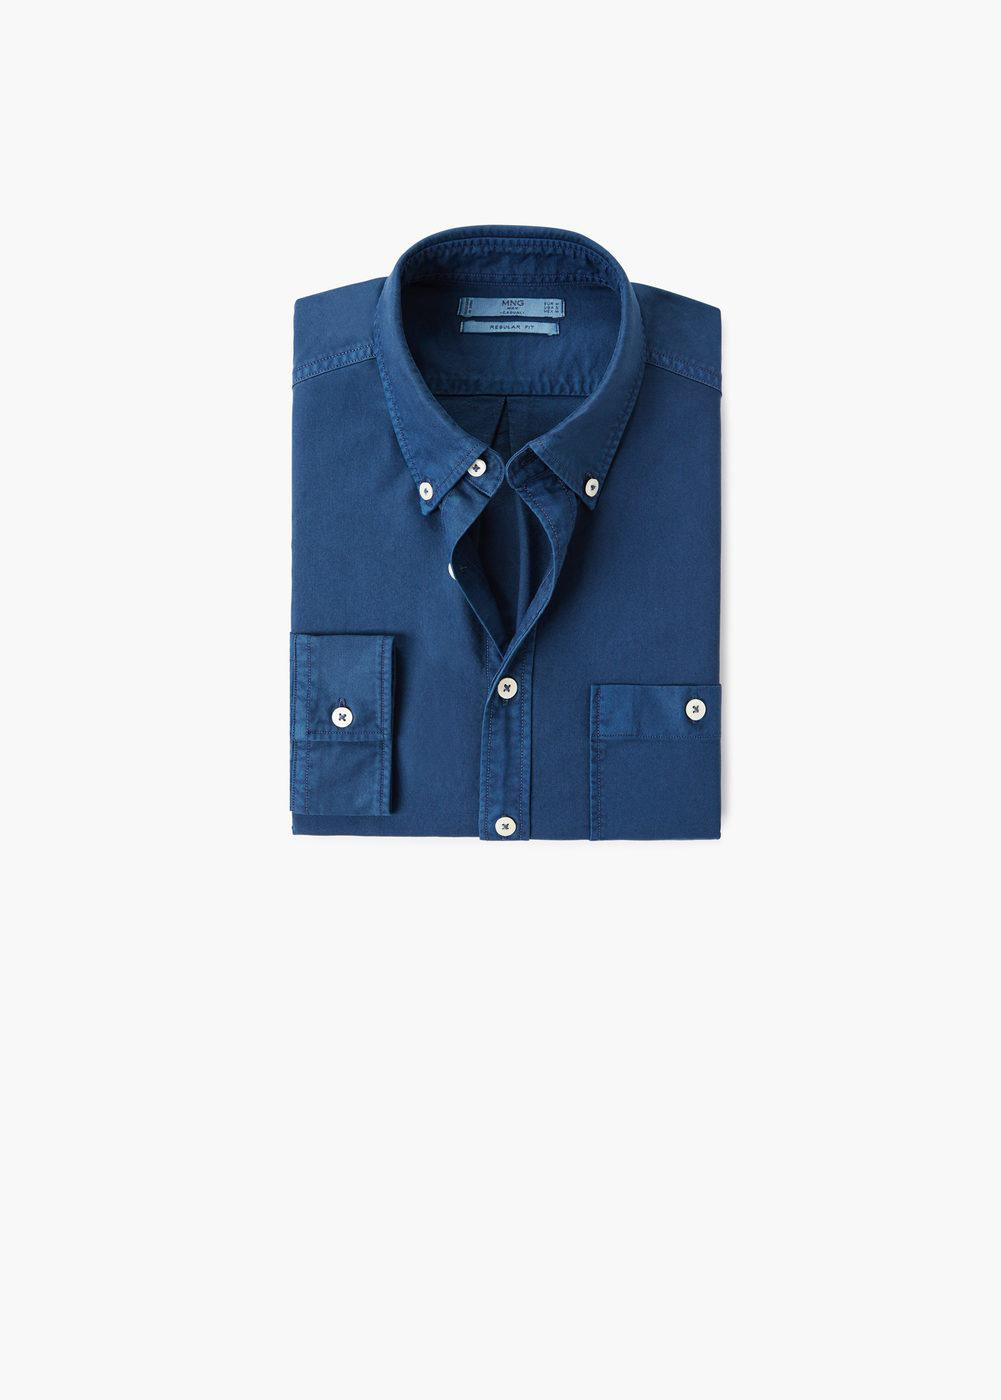teeshirt: (265, 214, 742, 876)
